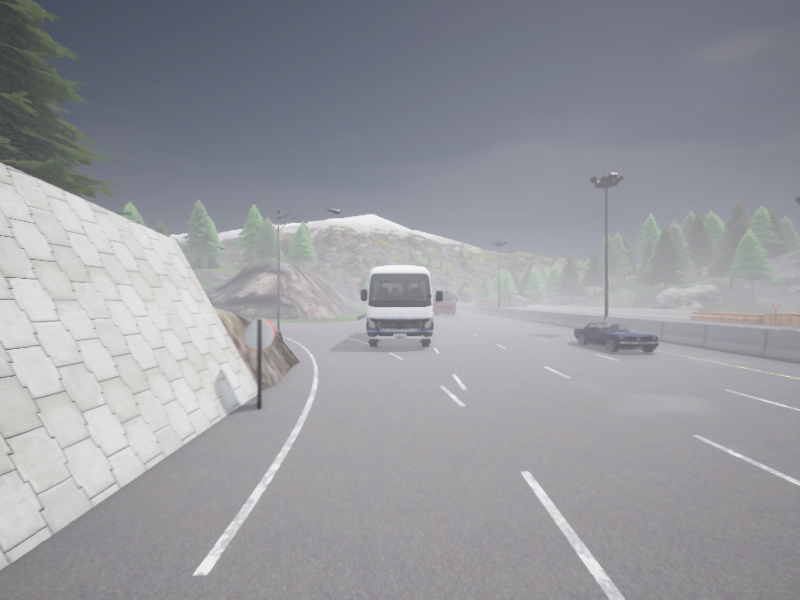vehicle: (361, 265, 442, 346), (574, 322, 658, 352), (433, 291, 456, 315)
